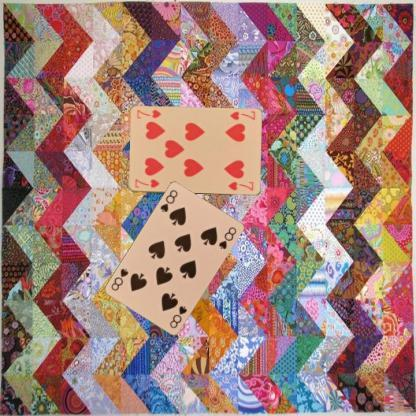7h: (132, 176, 160, 189), (227, 109, 256, 121)
8s: (166, 303, 188, 330), (158, 187, 180, 214)
